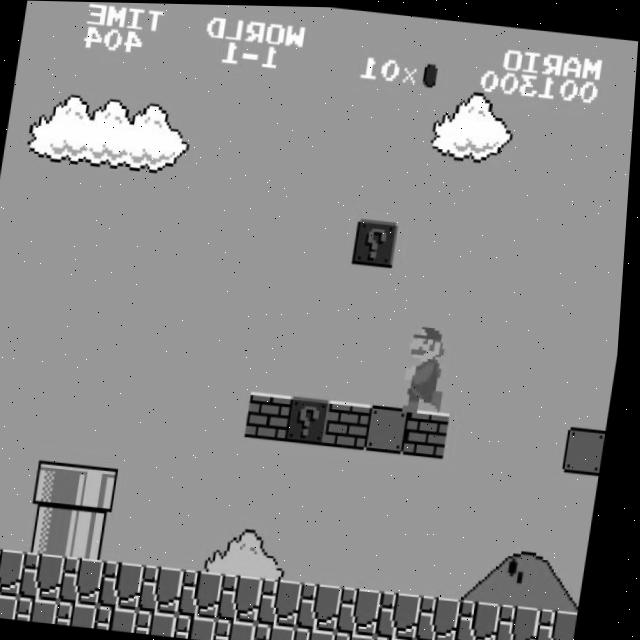0- big_mario: (404, 315, 460, 413)
1- brick_block: (249, 390, 297, 440), (408, 407, 456, 456), (329, 398, 376, 448)
13- mystery_block: (289, 394, 337, 444), (354, 217, 401, 266)
14- pipe: (32, 505, 80, 555), (72, 509, 119, 559)
15- pipe_head: (38, 460, 86, 510), (78, 464, 125, 514)
17- undestructible_block: (382, 589, 430, 639), (303, 580, 351, 630), (184, 568, 232, 618), (65, 555, 113, 605), (264, 576, 311, 626), (224, 572, 271, 622), (105, 559, 152, 609), (26, 551, 73, 601), (343, 585, 390, 634), (145, 564, 192, 613), (422, 593, 470, 640), (462, 597, 509, 640), (501, 601, 549, 640), (0, 547, 33, 597), (542, 605, 586, 640), (181, 613, 226, 640), (141, 609, 186, 636), (22, 596, 67, 623), (102, 605, 146, 632), (62, 601, 107, 627), (221, 617, 265, 640), (260, 621, 305, 640), (0, 592, 27, 619), (300, 626, 345, 640), (339, 630, 383, 640), (379, 633, 423, 640), (419, 638, 463, 640)
3- empty_block: (368, 402, 416, 452), (568, 423, 611, 473)
